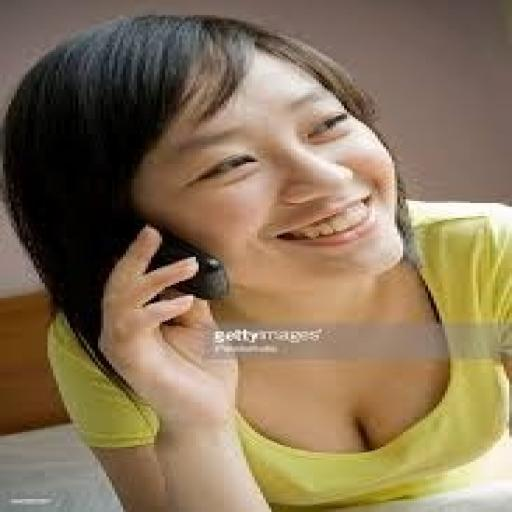calling: (0, 11, 509, 510)
